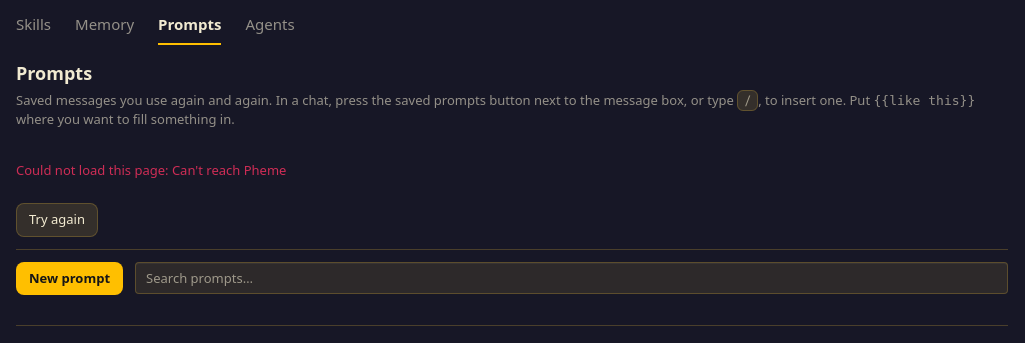
PromptsPage › shows a clear message and a retry when the list cannot load; and an empty-state hint with no prompts
Check: the text "Could not load this page: Can't reach Pheme" is shown, box [16,160,286,178]
Click the button "Try again" at {"x": 57, "y": 220}, box [16,203,98,236]
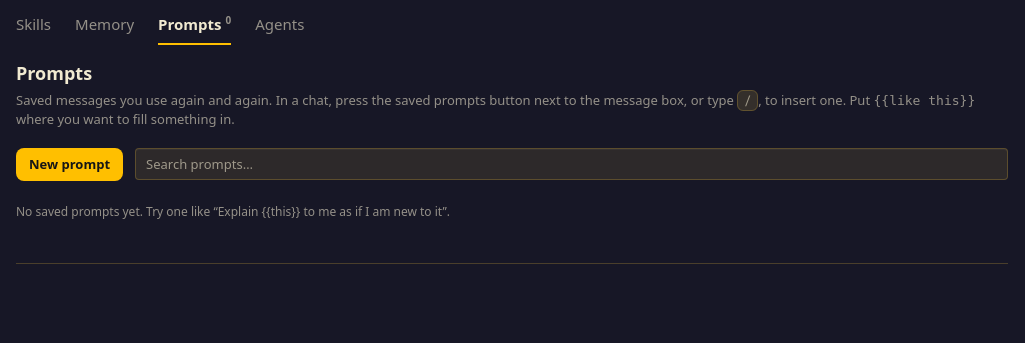
Check: the text "No saved prompts yet" is shown, box [16,203,262,220]
